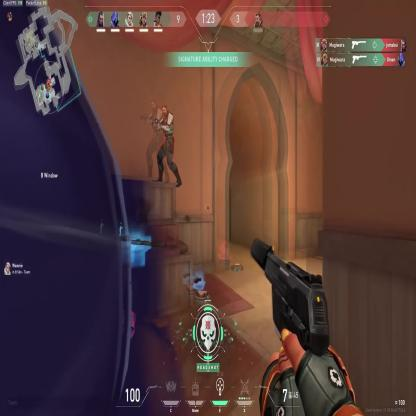enemy: (152, 100, 182, 186)
enemy_head: (160, 104, 168, 119)
